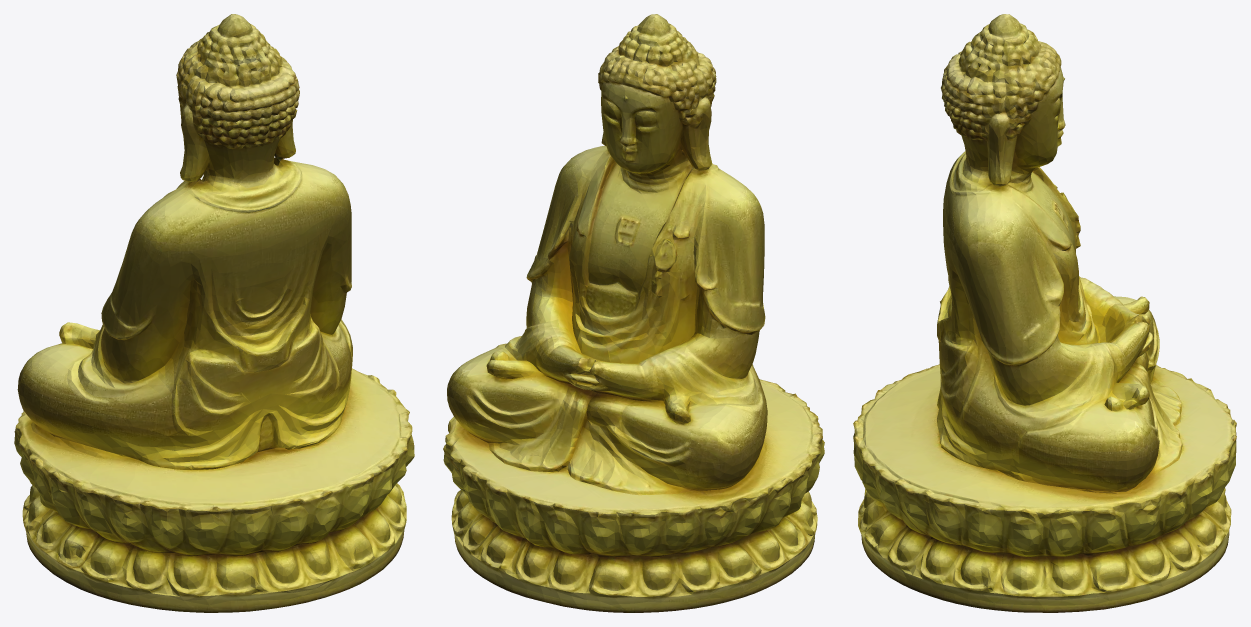
File: north.glb
3 renders of one model, left to right at view 1: azimuth 30°, elevation 25°; view 2: azimuth 150°, elevation 25°; view 3: azimuth 270°, elevation 25°, orthographic. The views are drawn at different scales.
Parts seen in each view (by area): view 1: geometry_0; view 2: geometry_0; view 3: geometry_0.
Boxes of the visible parts, box(x1,y1,x2,y2) form: geometry_0: box(14, 14, 414, 612); geometry_0: box(443, 14, 824, 612); geometry_0: box(853, 14, 1236, 612).
Bounding box in the file's own units: 0.6754 × 1 × 0.6689.
Materials: 1 (1 with a texture image).
